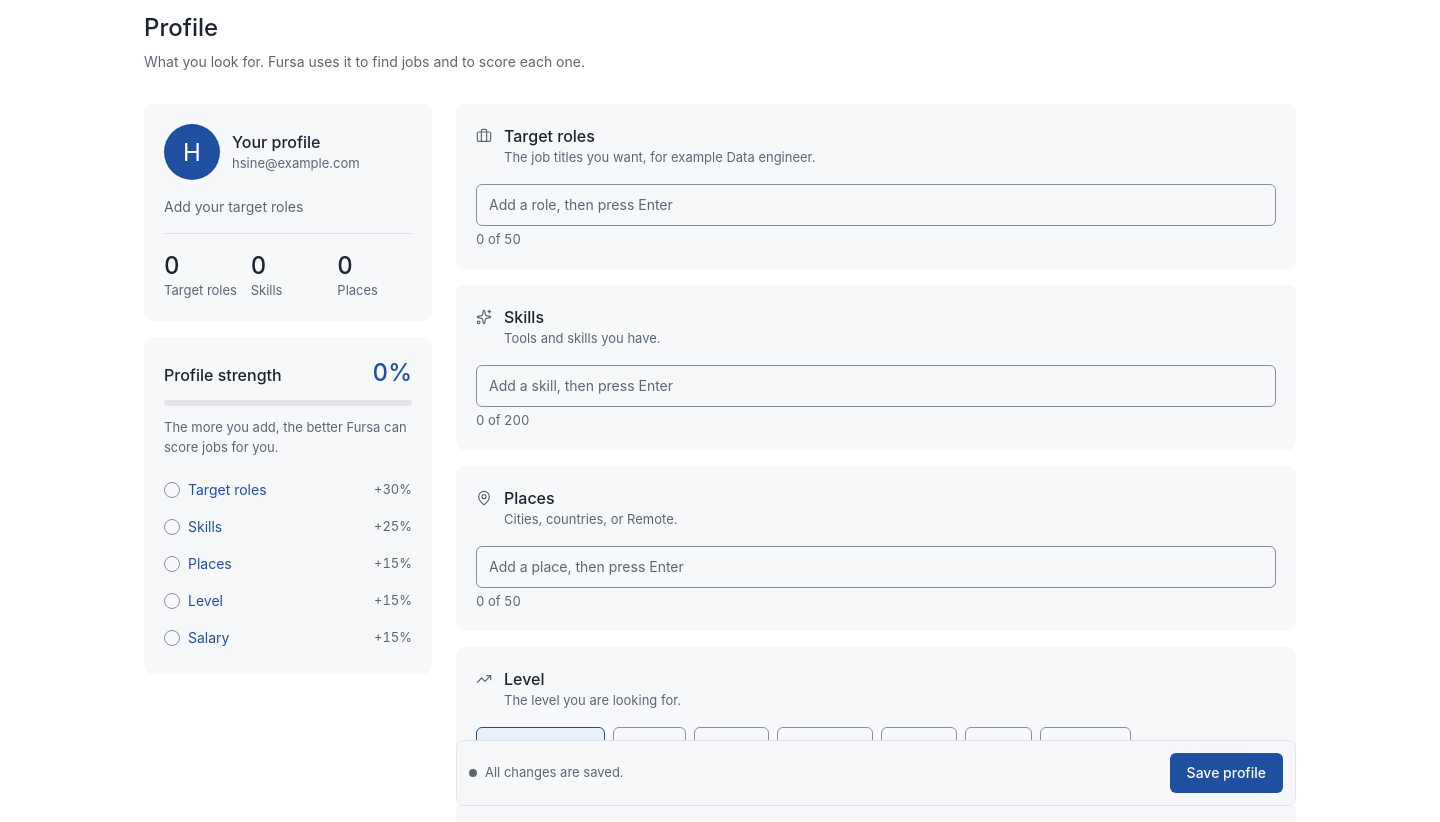
Test: profile page design › asks for roles when there are none, and the strength grows as the person types
Expected: the text "Add your target roles" is shown, x1=164 y1=198 x2=303 y2=215
Expected: the text "0%" is shown, x1=373 y1=357 x2=412 y2=388
Type "Data engineer," into the field named "Target roles" at (876,205), box x1=481 y1=189 x2=1271 y2=221
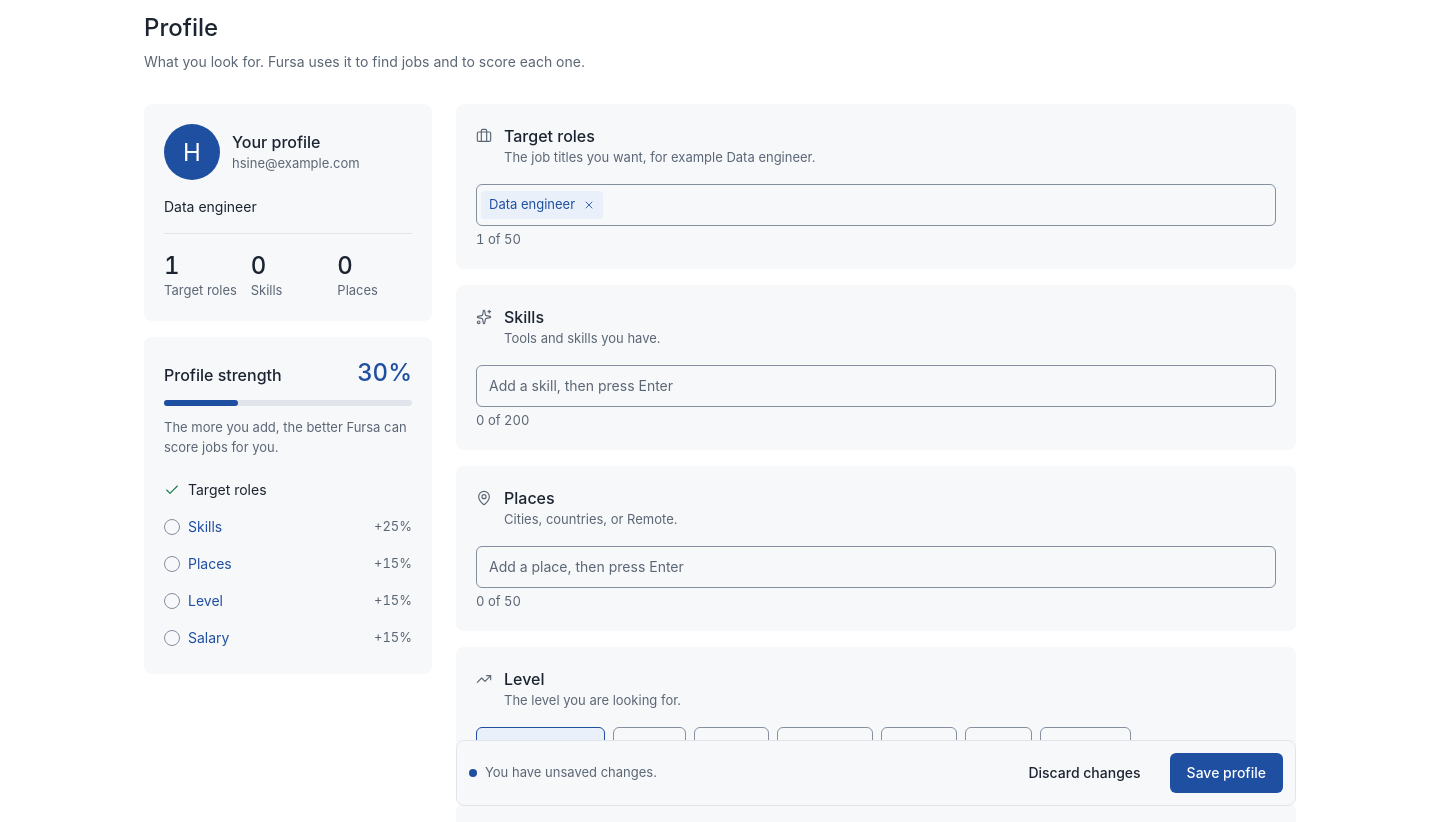
Now the text "30%" is shown, box x1=357 y1=357 x2=412 y2=388
Now the text "Data engineer" is shown, box x1=164 y1=198 x2=257 y2=215
